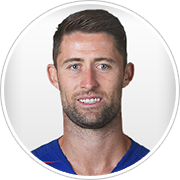smile: (78, 96, 102, 108)
